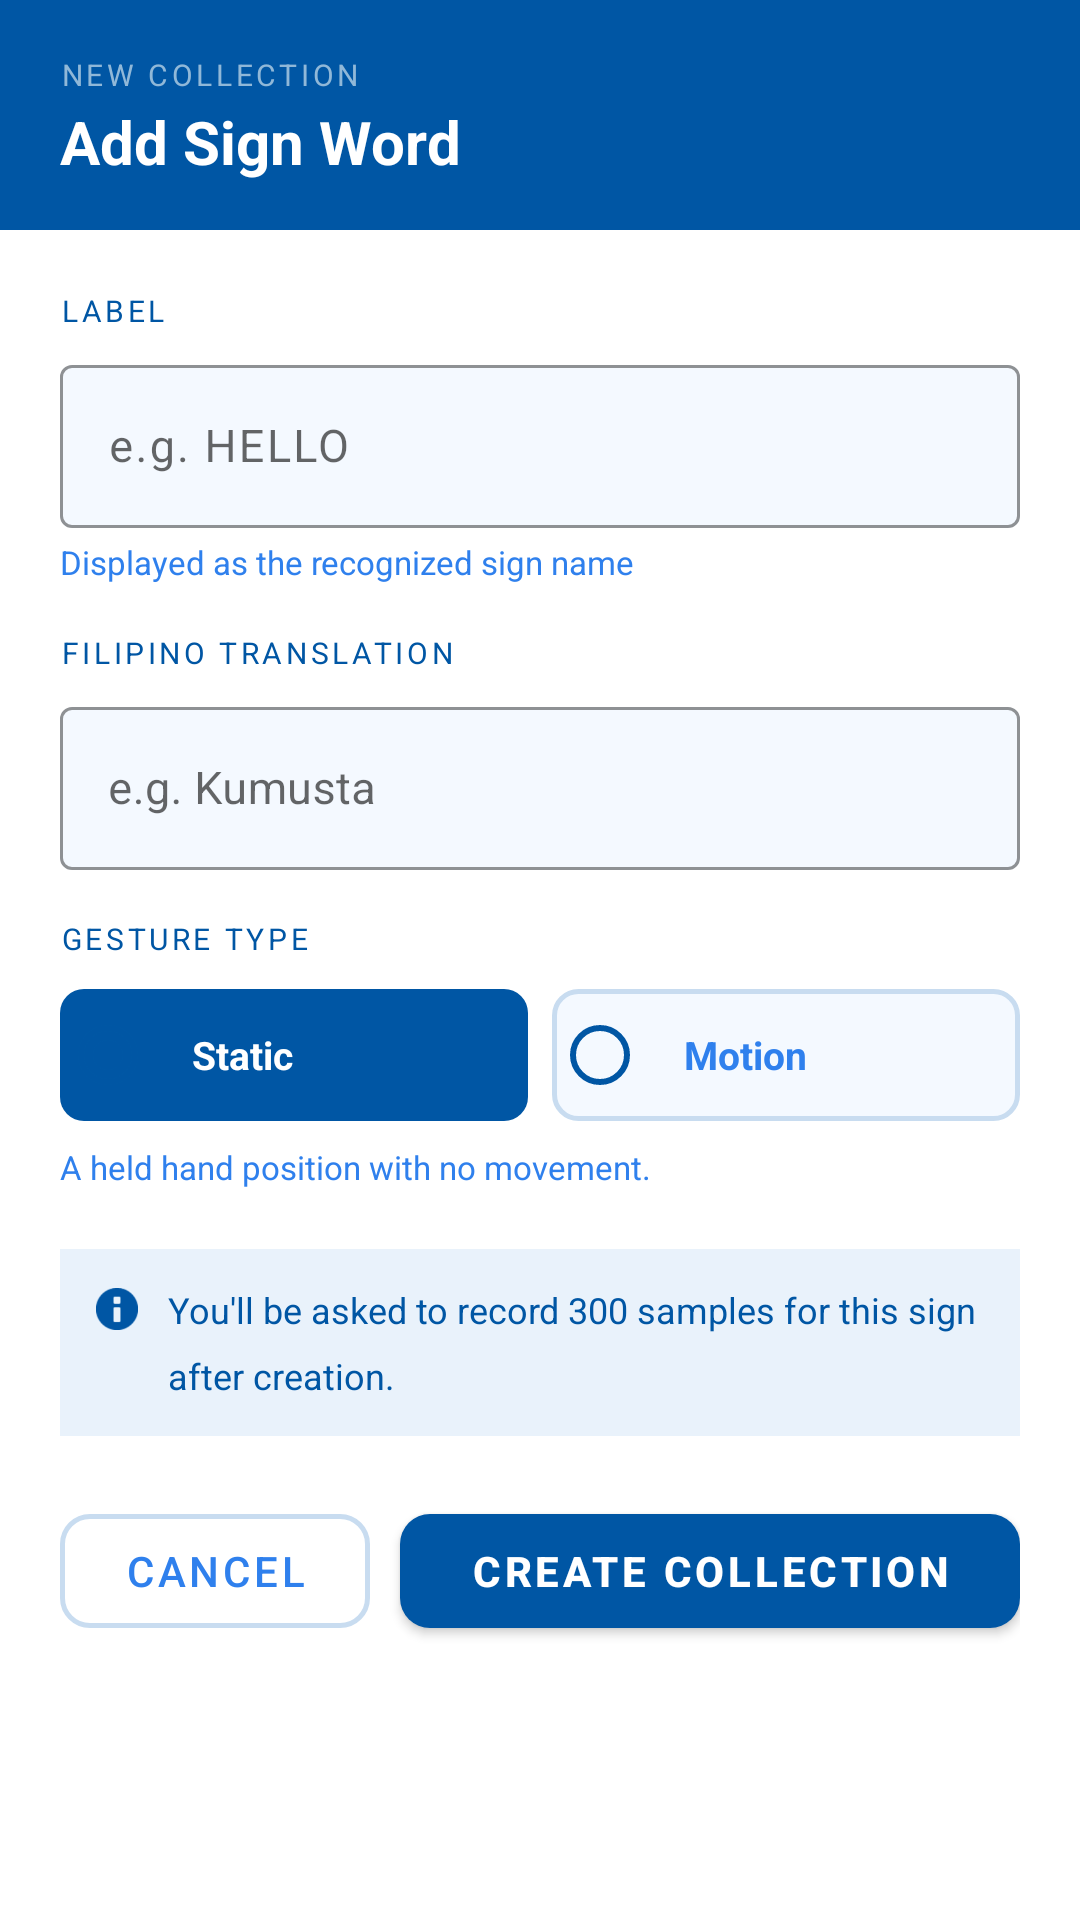

Named icons in this screenshot (1080px x 1920px) and their centers, (x,y):
Info: (117,1309)
